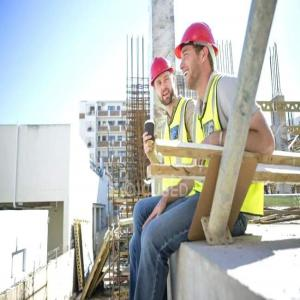red: (181, 20, 216, 90), (151, 56, 177, 108)
